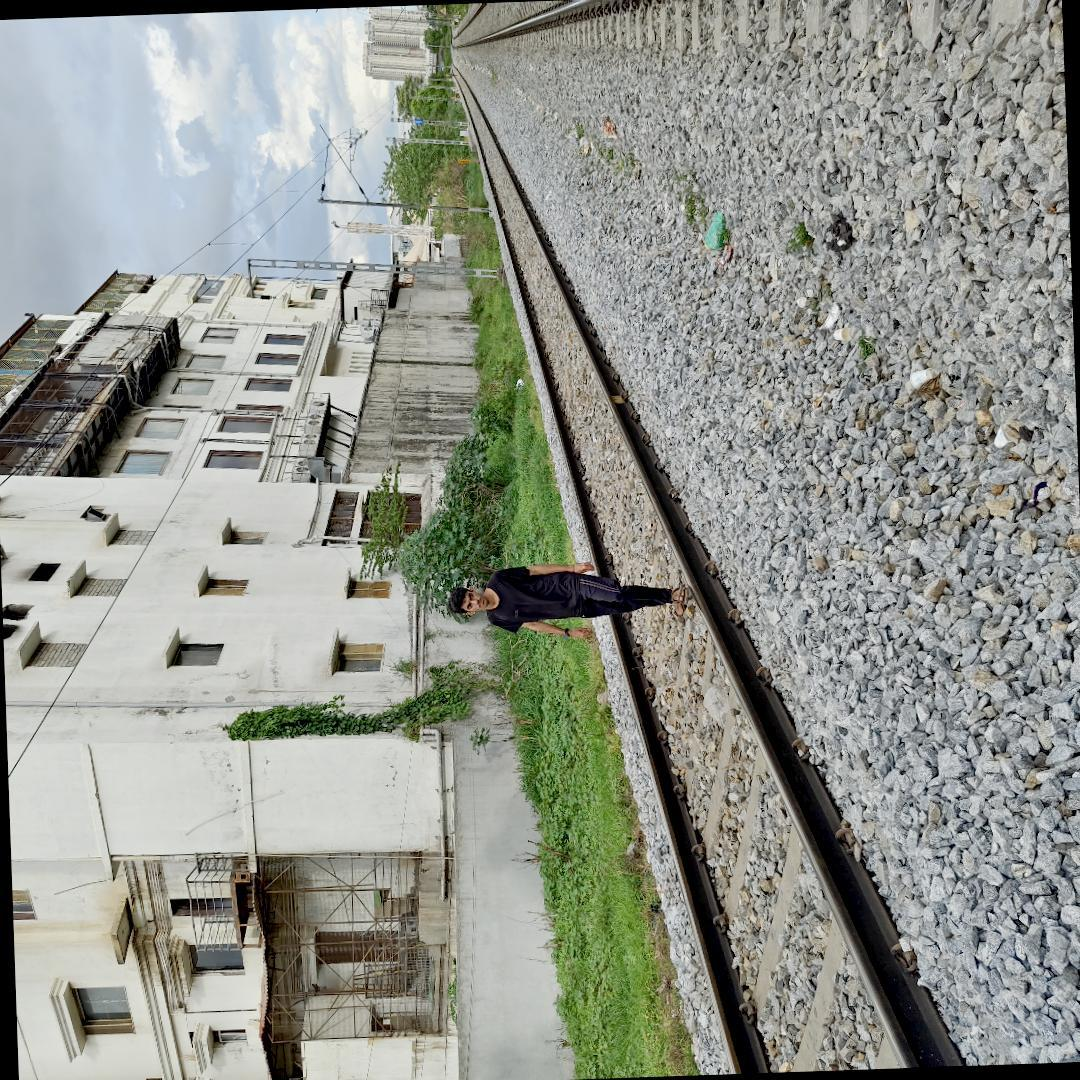standing: (444, 552, 706, 644)
